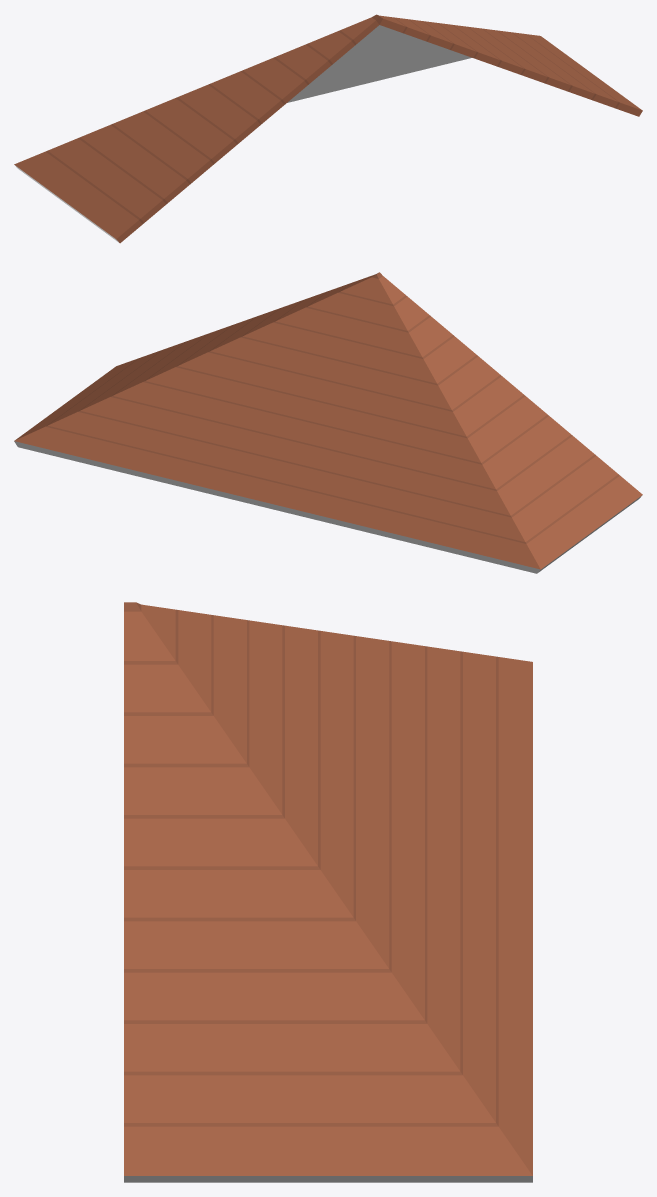
The model's file is Roof3_C5_02.fbx.
The picture shows the model from 3 angles, top to bottom: view 1: azimuth 30°, elevation 25°; view 2: azimuth 150°, elevation 25°; view 3: azimuth 270°, elevation 25°; orthographic projection. The views are drawn at different scales.
Visible parts, largest first — view 1: Roof3_C5_02; view 2: Roof3_C5_02; view 3: Roof3_C5_02.
Boxes of the visible parts, bbox=[...] form: Roof3_C5_02: bbox=[14, 14, 642, 243]; Roof3_C5_02: bbox=[14, 272, 642, 573]; Roof3_C5_02: bbox=[124, 602, 532, 1182].
Size of the model in its own units: 833 by 247 by 280.
